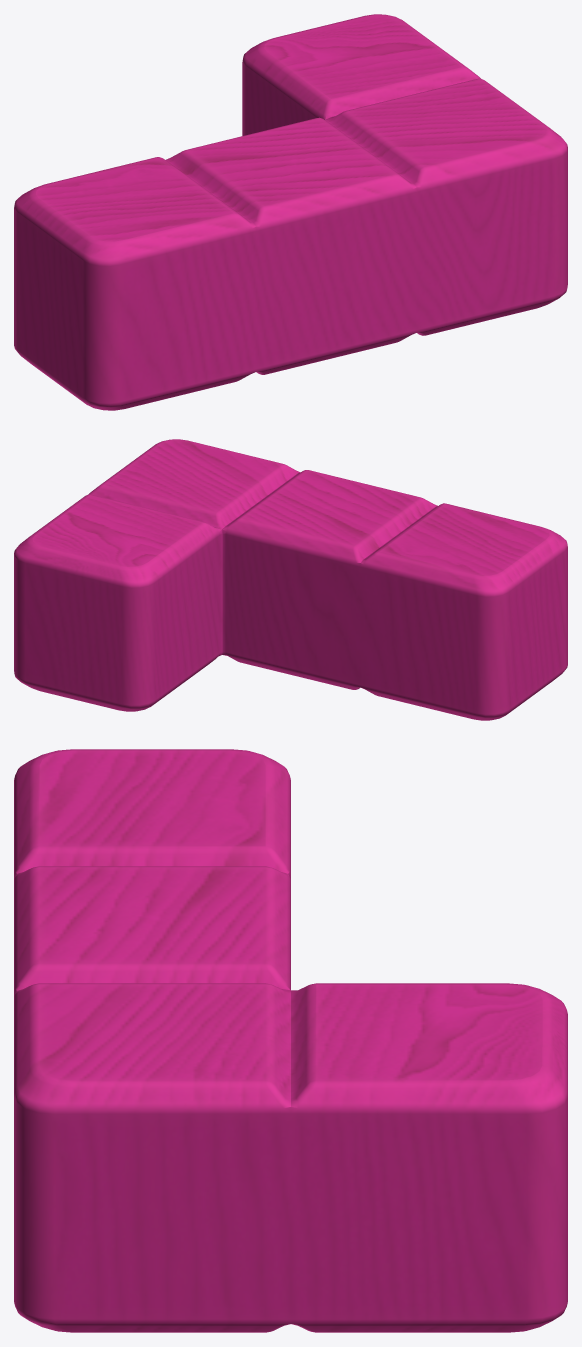
Rendered from Block_06.fbx.
3 renders of one model, top to bottom at view 1: azimuth 30°, elevation 25°; view 2: azimuth 150°, elevation 25°; view 3: azimuth 270°, elevation 25°, orthographic. The views are drawn at different scales.
Visible parts, largest first — view 1: Block_06; view 2: Block_06; view 3: Block_06.
Part boxes in pixels (x1,y1,x2,y2): Block_06: (14, 14, 567, 410); Block_06: (14, 439, 567, 720); Block_06: (14, 749, 567, 1332).
Size of the model in its own units: 3 by 1 by 2.
1 material, 1 textured.
